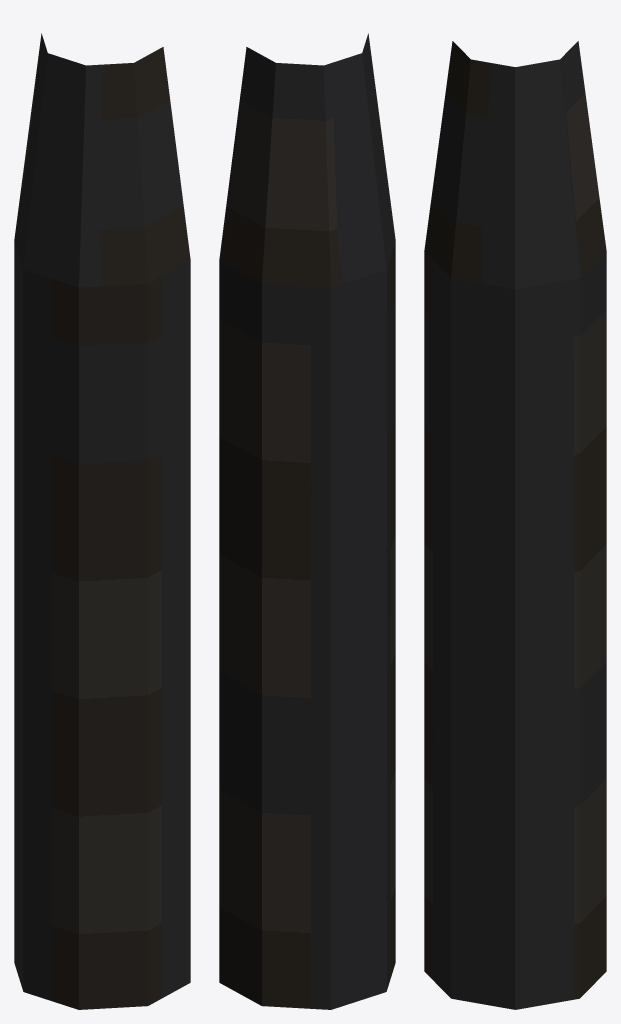
File: SM_Prop_Cartridge_01.glb
3 renders of one model, left to right at view 1: azimuth 30°, elevation 25°; view 2: azimuth 150°, elevation 25°; view 3: azimuth 270°, elevation 25°, orthographic.
Parts seen in each view (by area): view 1: SM_Prop_Cartridge_01; view 2: SM_Prop_Cartridge_01; view 3: SM_Prop_Cartridge_01.
Boxes of the visible parts, left/top/right/bottom form: SM_Prop_Cartridge_01: left=14, top=33, right=190, bottom=1009; SM_Prop_Cartridge_01: left=219, top=33, right=395, bottom=1009; SM_Prop_Cartridge_01: left=424, top=41, right=606, bottom=1009.
Size of the model in its own units: 0.011 by 0.062 by 0.011.
1 material, 1 textured.
